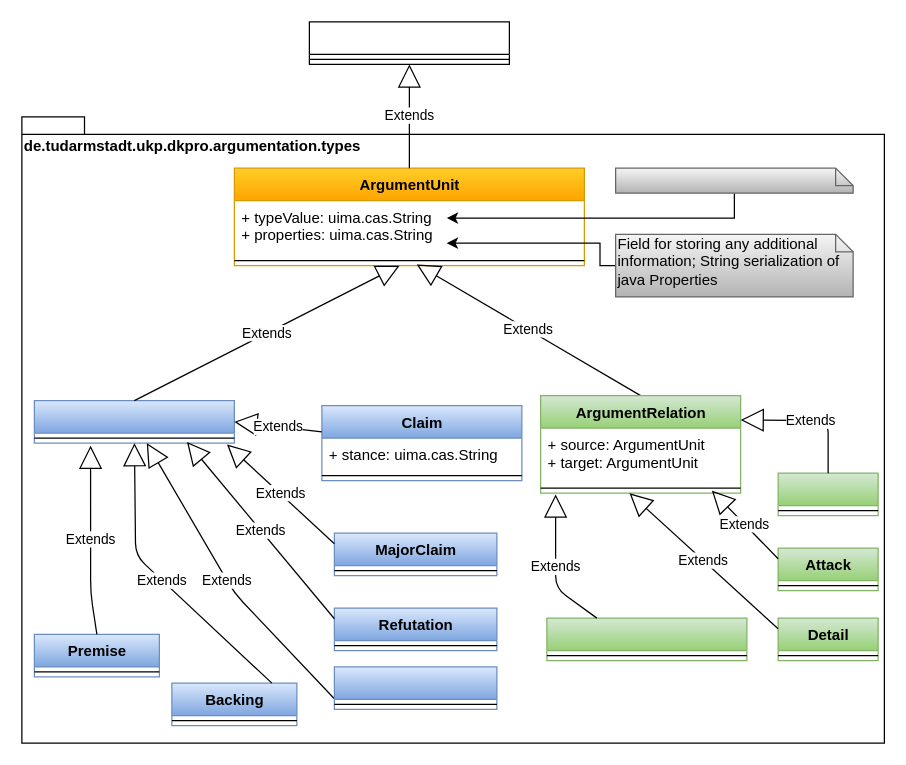
This 906x765 diagram has some shape labels left out. Here are the shapes that lost their labels. From the top down, the centre of each, then its label:
(x=408, y=42): uima.tcas.Annotation
(x=733, y=180): Field for storing type value
(x=133, y=421): ArgumentComponent
(x=827, y=494): Support
(x=646, y=639): Same
(x=415, y=687): Rebuttal
